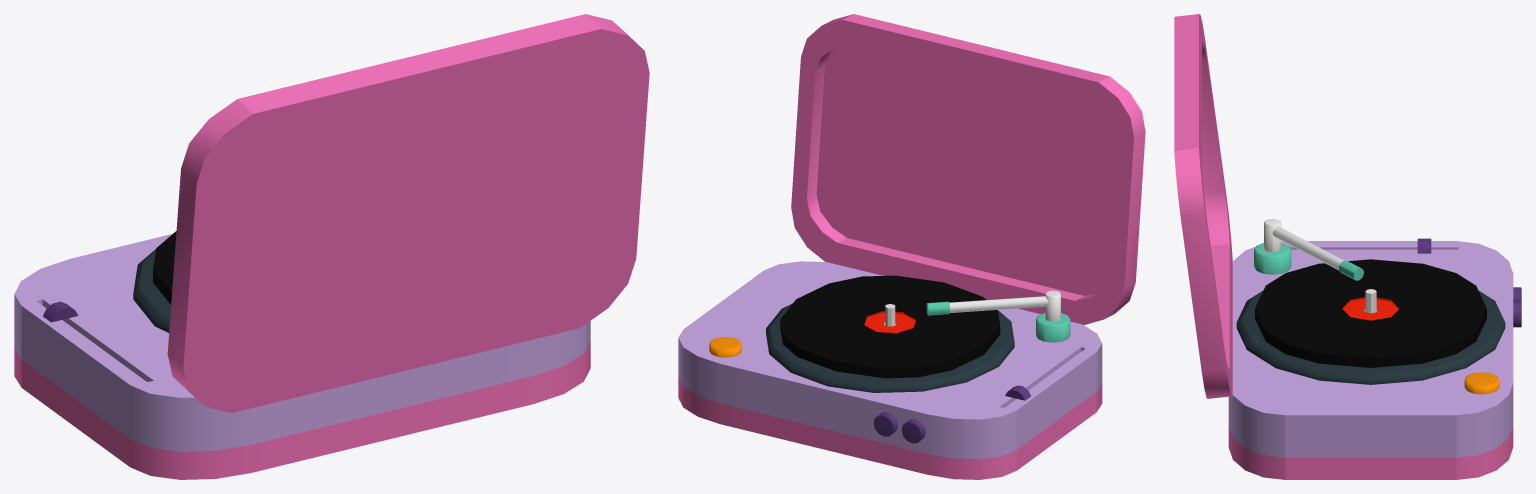
Rendered from cartoon_record_player.glb.
3 renders of one model, left to right at view 1: azimuth 30°, elevation 25°; view 2: azimuth 150°, elevation 25°; view 3: azimuth 270°, elevation 25°, orthographic. The views are drawn at different scales.
Parts seen in each view (by area): view 1: Cube.001_7, Cube_0; view 2: Cube.001_7, Cube_0, Cylinder.004_5, Cylinder.002_3, Cylinder.005_6; view 3: Cube_0, Cube.001_7, Cylinder.002_3, Cylinder.004_5, Cylinder.005_6.
Boxes of the visible parts, left/top/right/bottom form: Cube.001_7: left=167, top=14, right=649, bottom=412; Cube_0: left=14, top=231, right=590, bottom=479; Cube.001_7: left=791, top=14, right=1145, bottom=324; Cube_0: left=678, top=261, right=1102, bottom=479; Cylinder.004_5: left=926, top=296, right=1048, bottom=315; Cylinder.002_3: left=1036, top=290, right=1070, bottom=342; Cylinder.005_6: left=709, top=337, right=741, bottom=357; Cube_0: left=1228, top=241, right=1513, bottom=479; Cube.001_7: left=1174, top=14, right=1232, bottom=398; Cylinder.002_3: left=1254, top=218, right=1291, bottom=274; Cylinder.004_5: left=1272, top=227, right=1363, bottom=280; Cylinder.005_6: left=1464, top=372, right=1499, bottom=394.
Bounding box in the file's own units: 2.9 × 2.42 × 2.44.
1 material, 1 textured.
